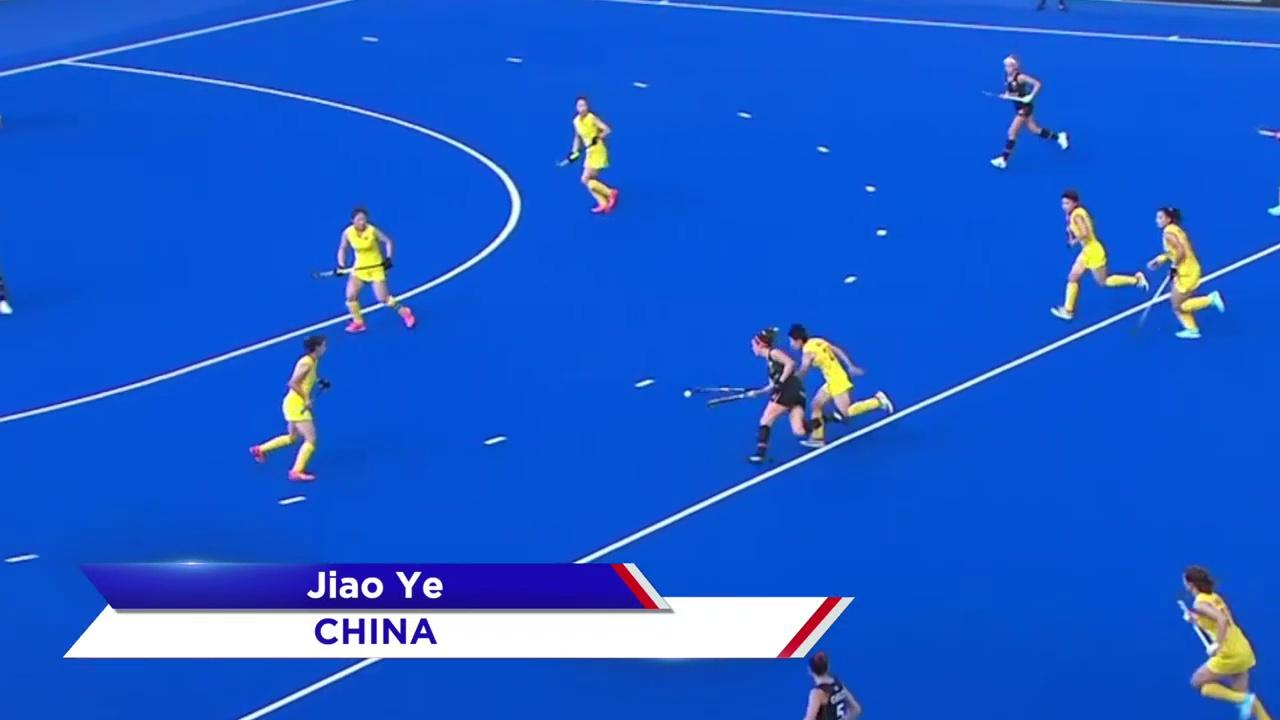ball: (679, 387, 698, 400)
